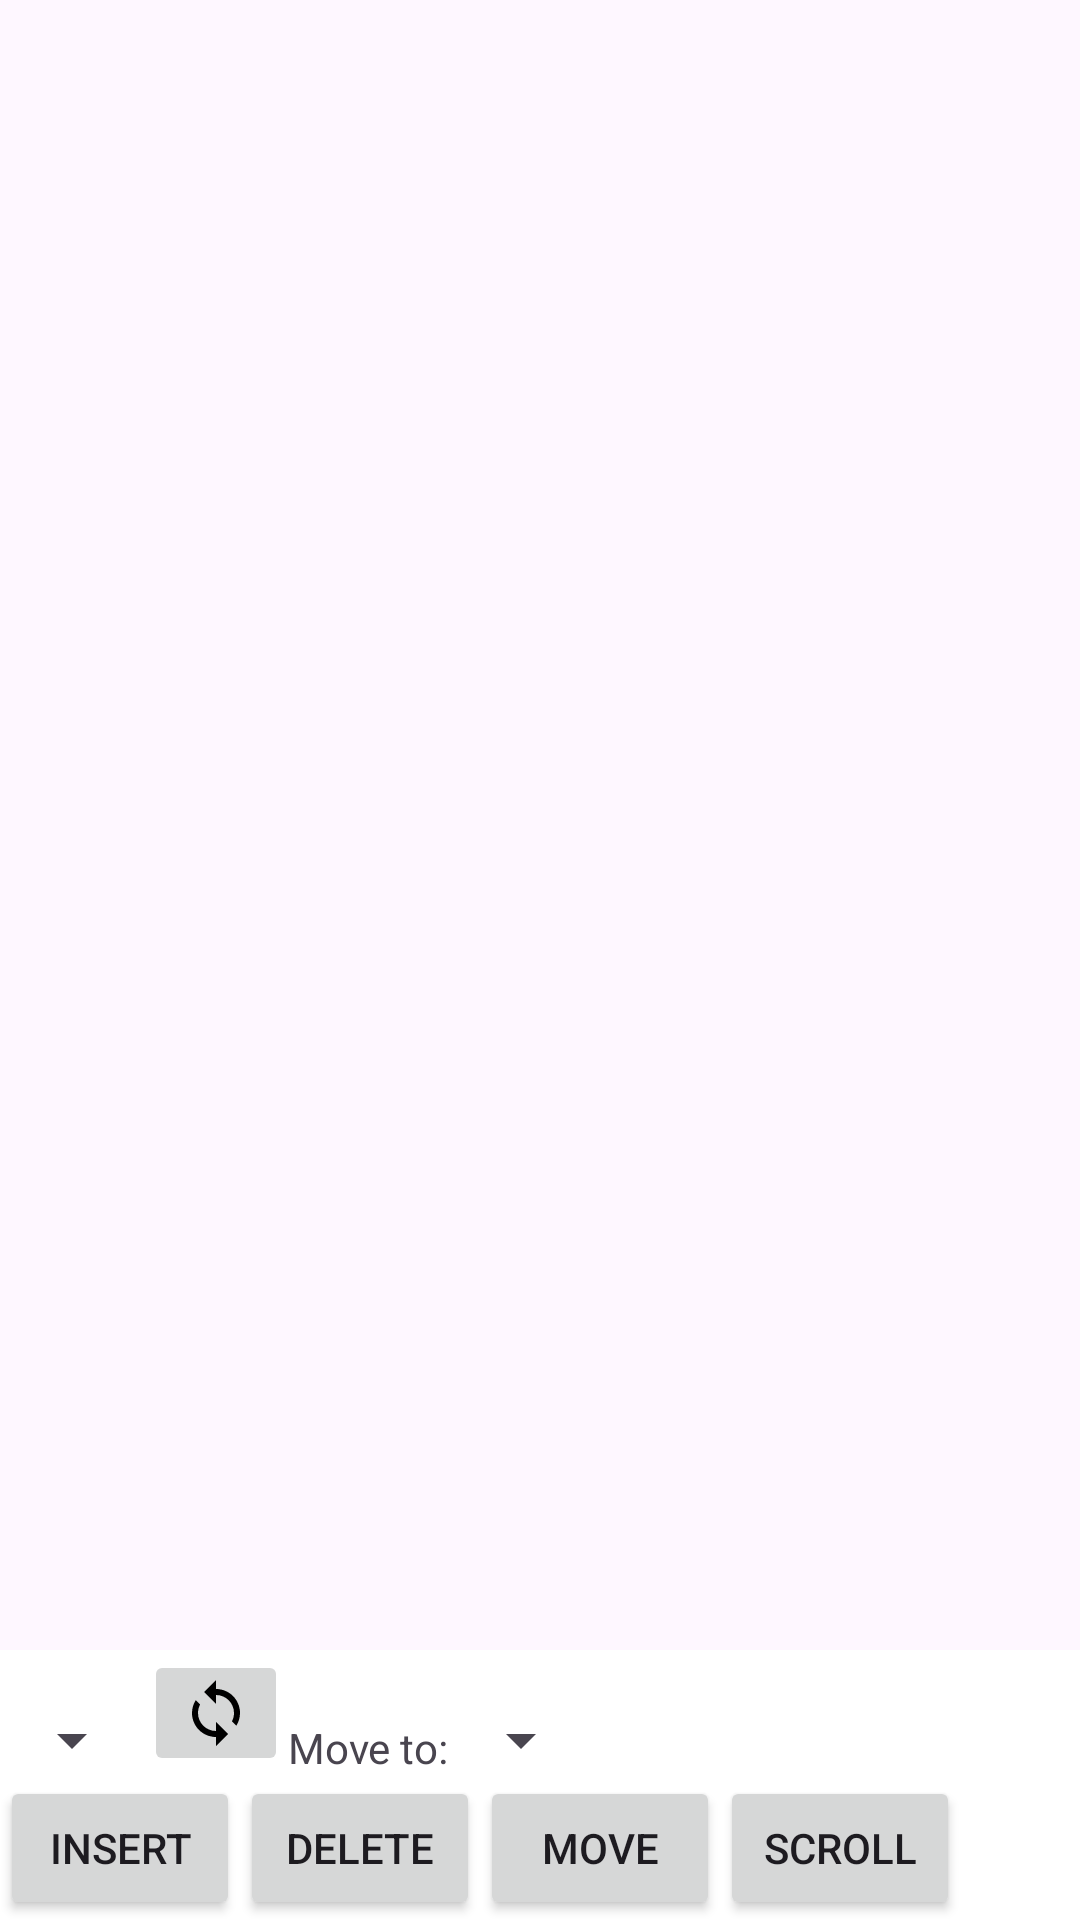

Where to tap for icons on this 1080x1920 app screen, as point (x, y):
sync: point (216, 1713)
